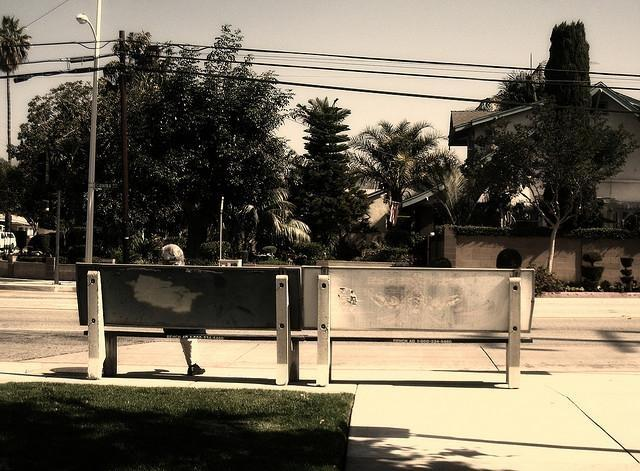car: (18, 246, 46, 262), (0, 232, 16, 254)
